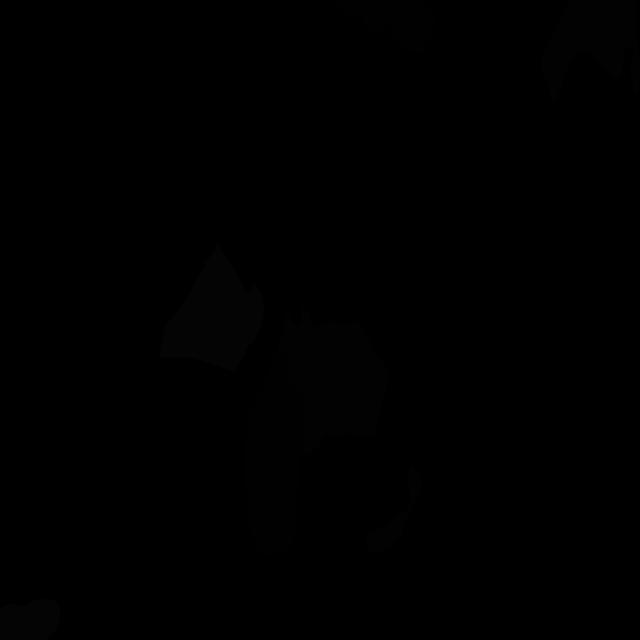cardboard: (277, 305, 388, 455), (540, 0, 640, 105), (365, 465, 423, 552)
rigid_plastic: (244, 348, 306, 557), (338, 1, 435, 54)
soft_plastic: (159, 244, 265, 371), (0, 599, 60, 640)
